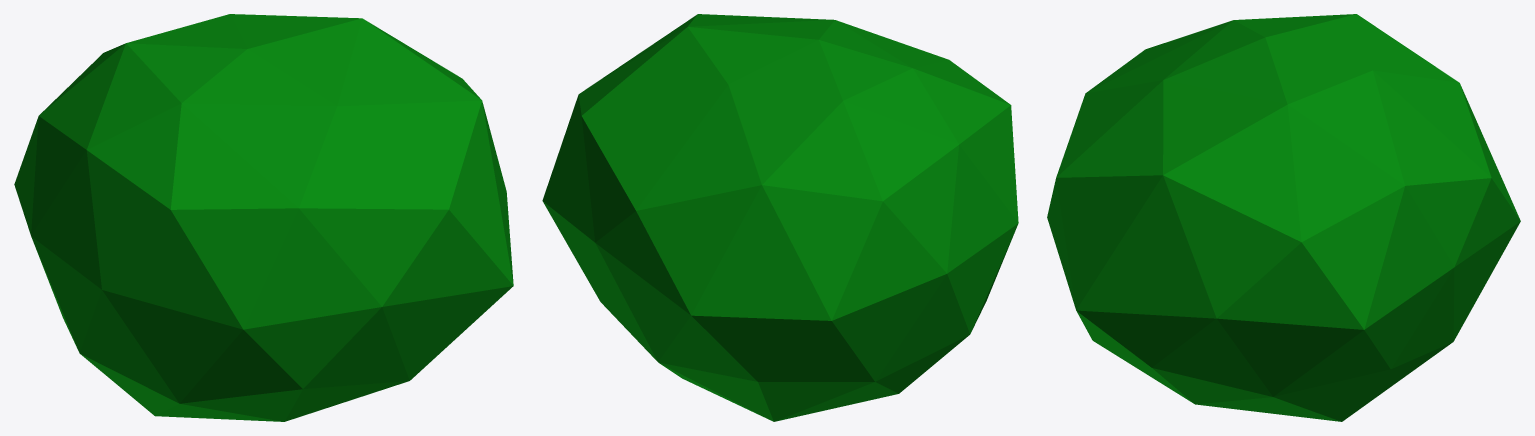
The model's file is LowPoly_Foliage1.fbx.
3 renders of one model, left to right at view 1: azimuth 30°, elevation 25°; view 2: azimuth 150°, elevation 25°; view 3: azimuth 270°, elevation 25°, orthographic. The views are drawn at different scales.
Parts seen in each view (by area): view 1: Icosphere; view 2: Icosphere; view 3: Icosphere.
Boxes of the visible parts, <box> form: Icosphere: <box>14,14,513,421</box>; Icosphere: <box>542,14,1018,421</box>; Icosphere: <box>1047,14,1520,421</box>.
Bounding box in the file's own units: 206 × 167 × 213.
